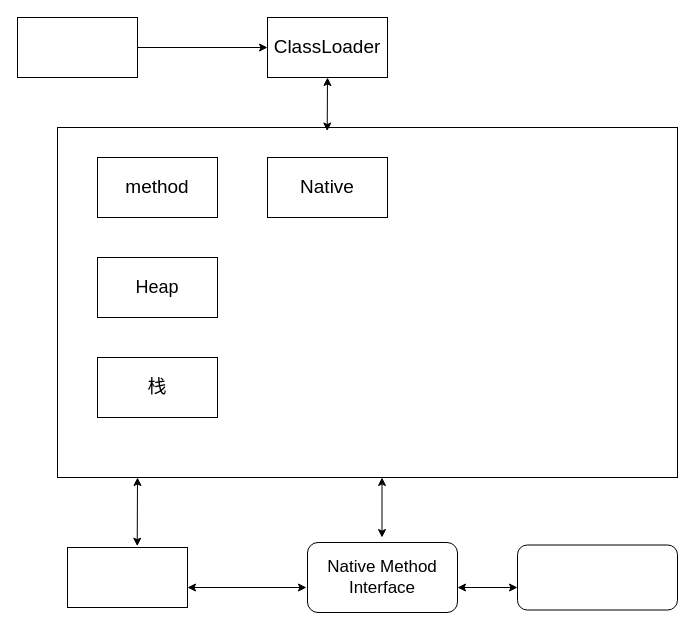
Some shapes in this 695 by 630 pixel diagram are drawn without their labels. Each missing label, with the box of its shape:
.class: (16, 16, 138, 78)
Execute Engine: (66, 546, 188, 608)
Native Method Library: (516, 544, 678, 610)
